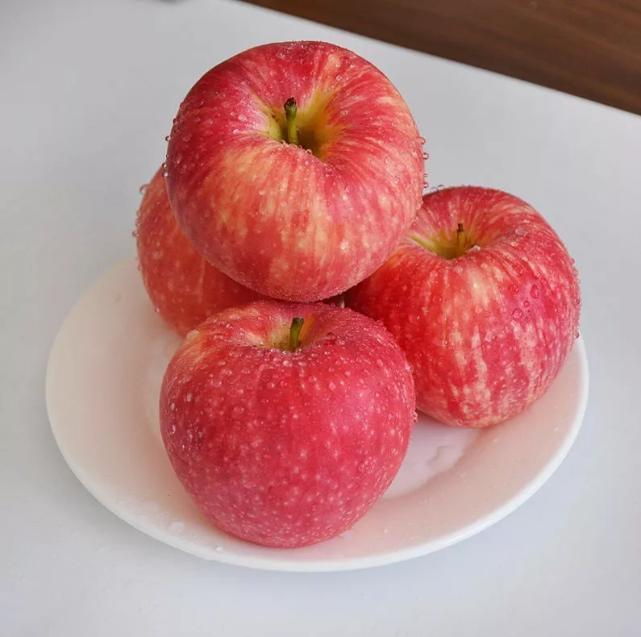apple: (165, 35, 428, 303), (160, 302, 415, 551), (347, 185, 580, 430)
